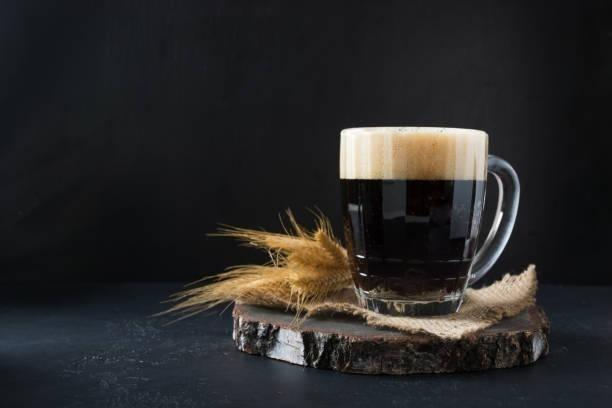glass-mug: (338, 123, 522, 318)
